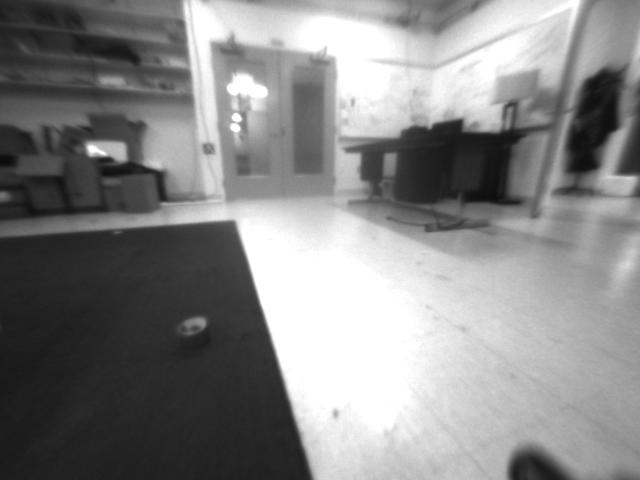dogtoy: (165, 311, 219, 351)
